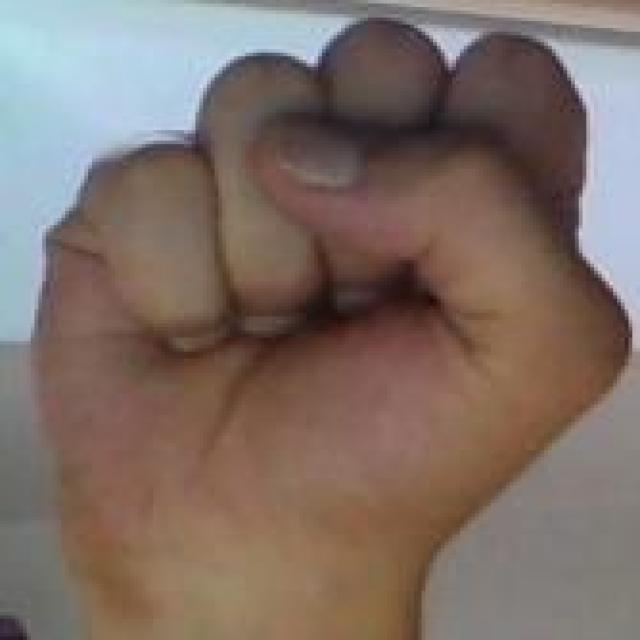S: (29, 0, 640, 569)
